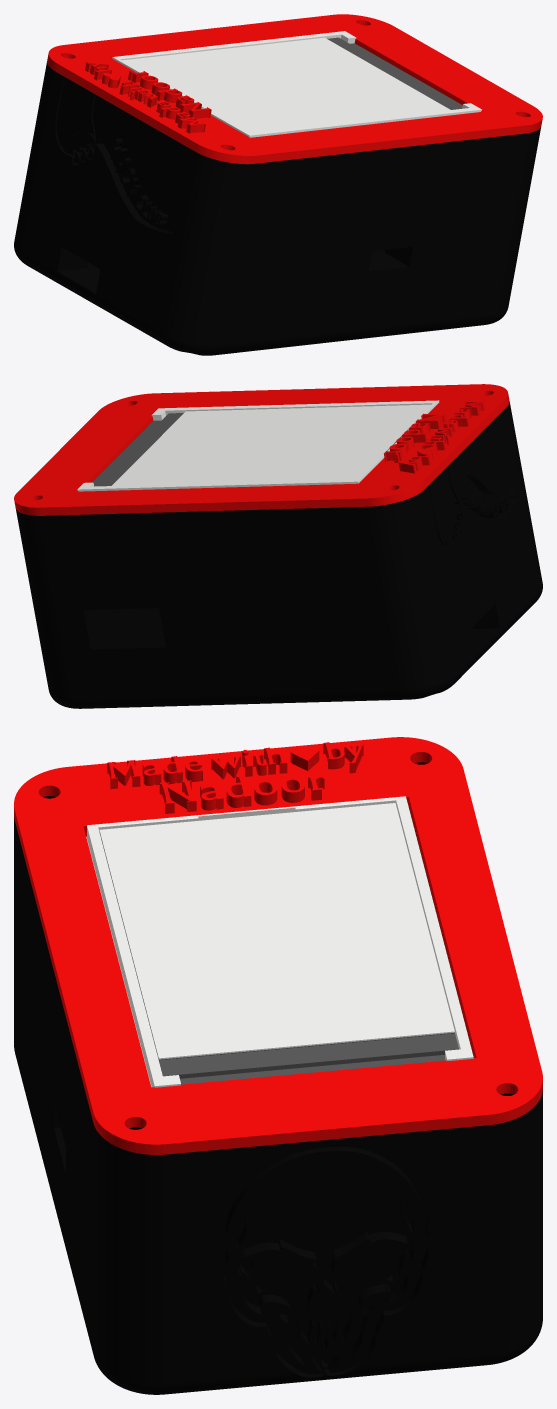
Rendered from here.glb.
3 views of the same model, one above another, from view 1: azimuth 30°, elevation 25°; view 2: azimuth 150°, elevation 25°; view 3: azimuth 270°, elevation 25° (orthographic). The views are drawn at different scales.
Visible parts, largest first — view 1: Node2, Node5, Node6, Node10, Node1, Node11; view 2: Node2, Node5, Node6, Node10, Node1, Node11; view 3: Node2, Node5, Node6, Node1, Node11, Node10.
Part boxes in pixels (x1,y1,x2,y2): Node2: (14,62,540,344); Node5: (47,14,542,164); Node6: (112,31,481,137); Node10: (14,133,507,355); Node1: (55,78,174,233); Node11: (327,37,462,109); Node2: (16,402,542,697); Node5: (14,384,509,515); Node6: (77,400,439,491); Node10: (49,481,542,708); Node1: (429,467,518,547); Node11: (92,413,407,486); Node2: (14,762,542,1384); Node5: (14,737,542,1154); Node6: (87,796,473,1087); Node1: (227,1151,424,1374); Node11: (99,832,458,1084); Node10: (14,1047,542,1394).
Size of the model in its own units: 114 by 70.5 by 82.13.
